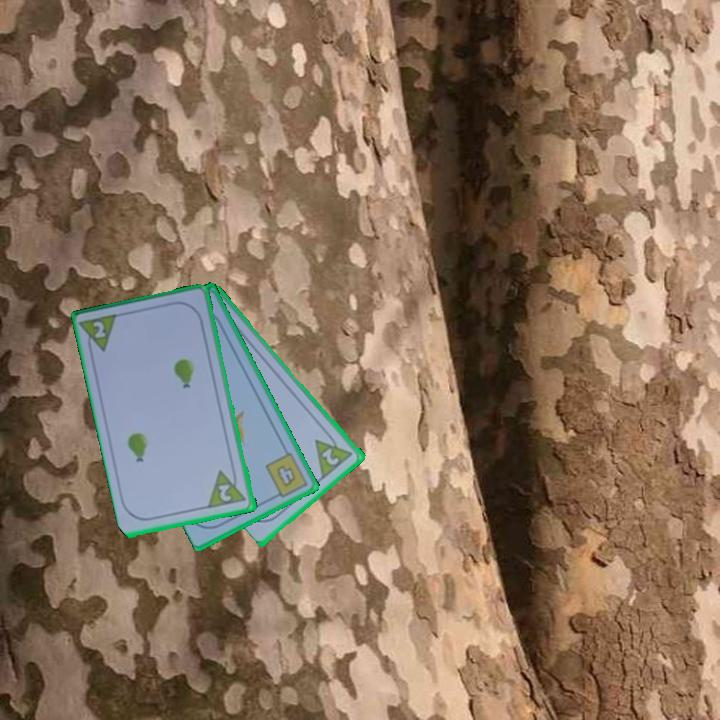2p: (77, 310, 122, 358), (205, 465, 250, 511), (319, 445, 343, 468)
4b: (262, 449, 311, 502)
